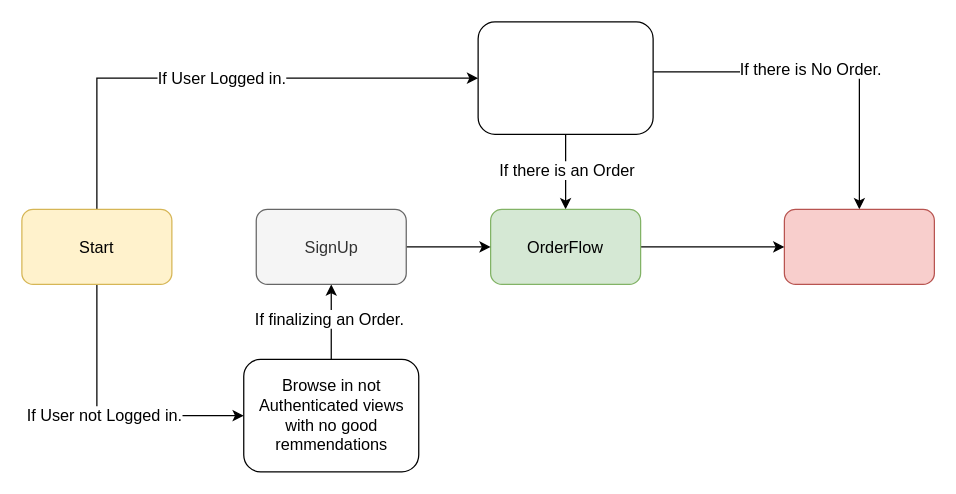
Image size: 956x494. Some labels were removed from this diagram. Each missing label, with the centre of its shape:
Browse in Authenticated Views containing better recommendations: (x=565, y=77)
END: (x=858, y=246)
